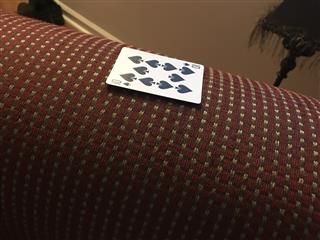TenOfSpades: (104, 45, 205, 104)
